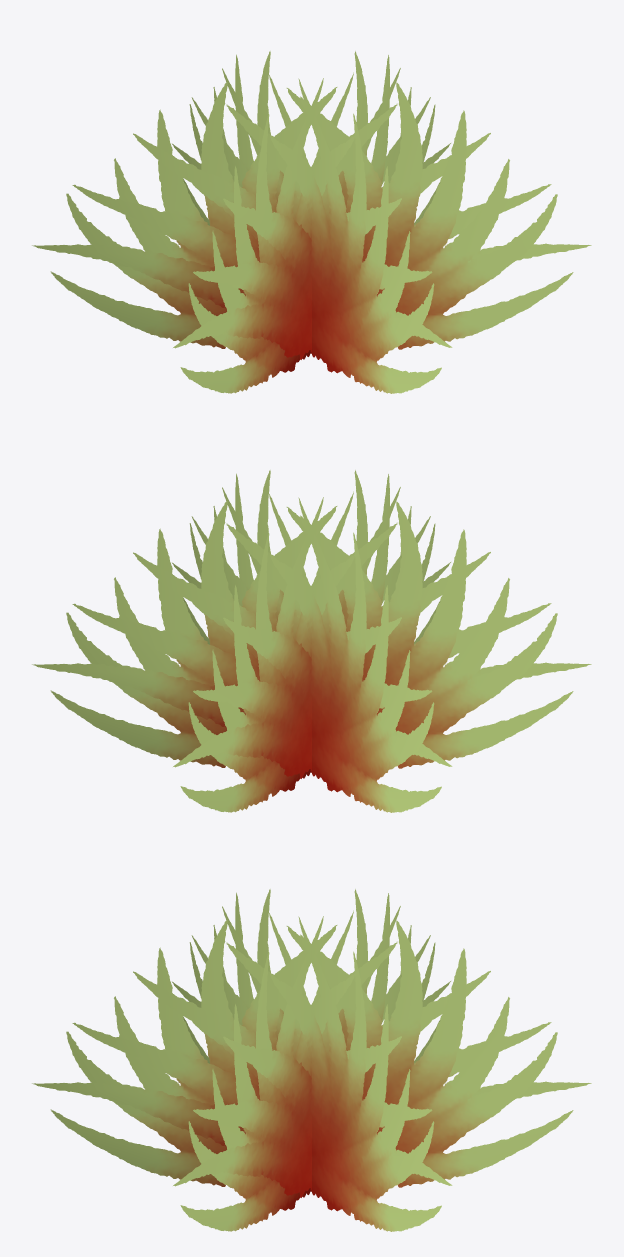
Rendered from painted-weed-073.glb.
3 views of the same model, one above another, from view 1: azimuth 30°, elevation 25°; view 2: azimuth 150°, elevation 25°; view 3: azimuth 270°, elevation 25° (orthographic).
Size of the model in its own units: 9.04 by 5.93 by 10.43.
1 material, 1 textured.
